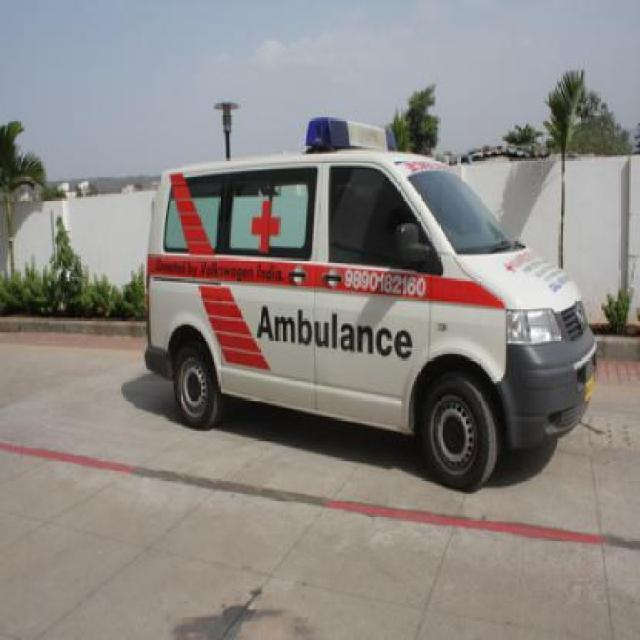Ambulance: (0, 329, 638, 638), (136, 116, 602, 496)
